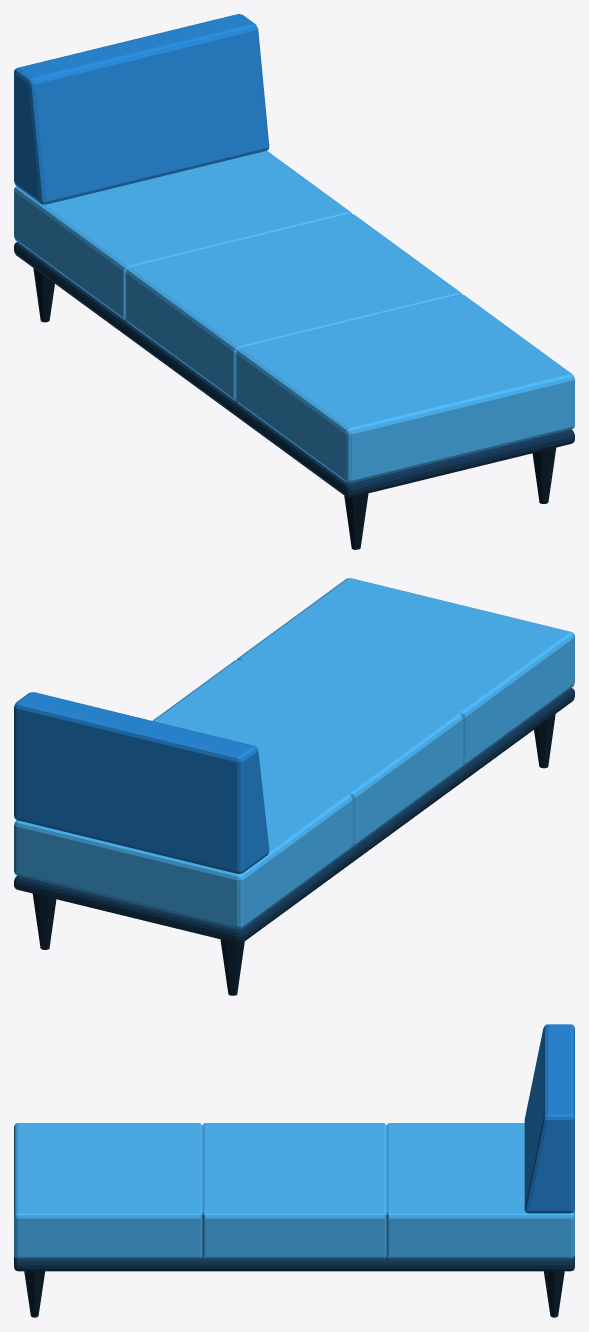
File: Prop_Sofa_06_F.fbx
The picture shows the model from 3 angles, top to bottom: view 1: azimuth 30°, elevation 25°; view 2: azimuth 150°, elevation 25°; view 3: azimuth 270°, elevation 25°; orthographic projection. The views are drawn at different scales.
Parts seen in each view (by area): view 1: Prop_Sofa_06_F; view 2: Prop_Sofa_06_F; view 3: Prop_Sofa_06_F.
Part boxes in pixels (x1,y1,x2,y2): Prop_Sofa_06_F: (14,14,574,549); Prop_Sofa_06_F: (14,578,574,995); Prop_Sofa_06_F: (14,1024,574,1317).
Size of the model in its own units: 80.07 by 83.16 by 203.
